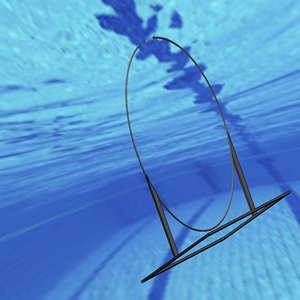circle: (123, 35, 292, 284)
